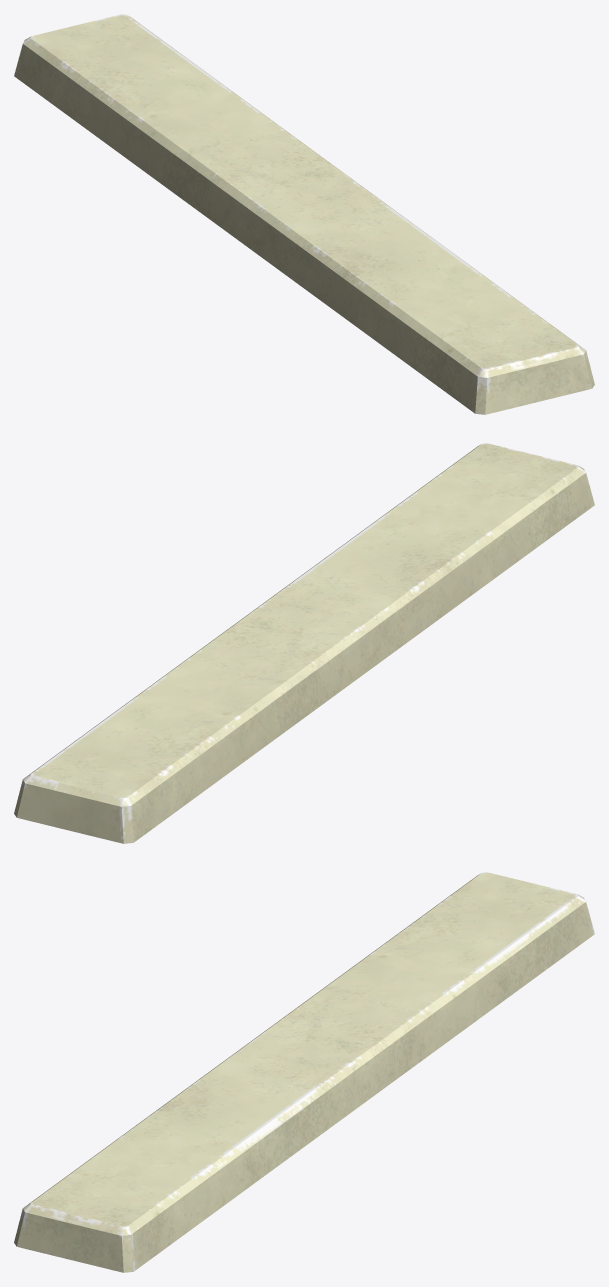
File: SM_LigthCeiling02.gltf
3 views of the same model, one above another, from view 1: azimuth 30°, elevation 25°; view 2: azimuth 150°, elevation 25°; view 3: azimuth 330°, elevation 25° (orthographic).
Visible parts, largest first — view 1: node0; view 2: node0; view 3: node0.
Boxes of the visible parts, x1=… form: node0: x1=14, y1=14, x2=594, y2=414; node0: x1=14, y1=443, x2=594, y2=843; node0: x1=14, y1=872, x2=594, y2=1272.
Size of the model in its own units: 0.1621 by 0.05 by 1.1.
Materials: 1 (1 with a texture image).
